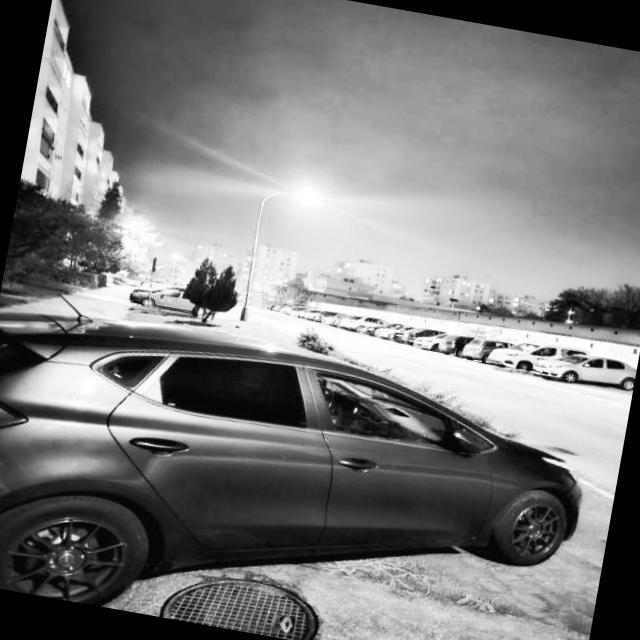Light: (238, 183, 315, 329)
